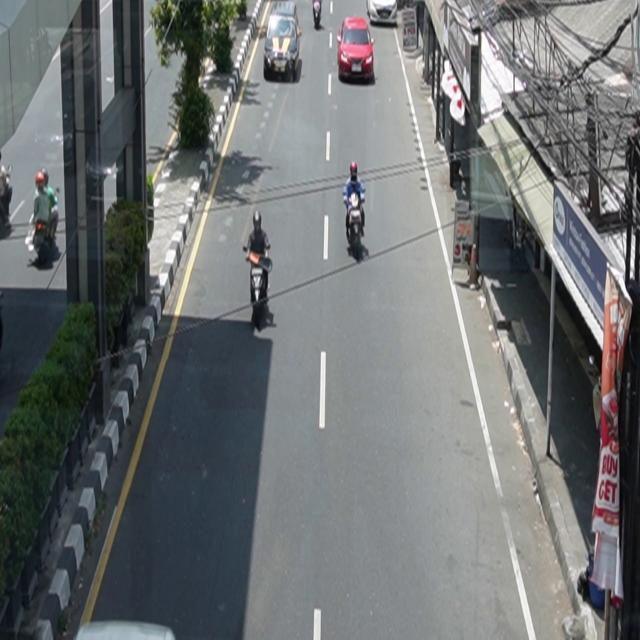car: (264, 13, 302, 83), (337, 17, 376, 84), (367, 1, 398, 26)
